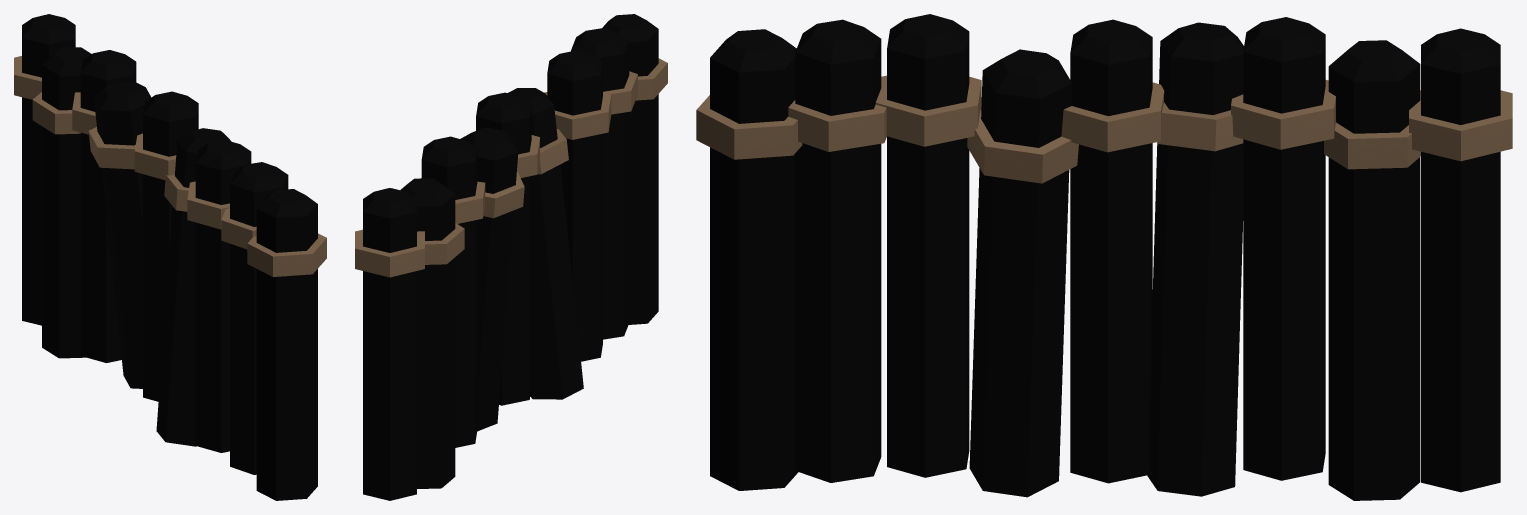
The model's file is SM_ChinampaEdge.fbx.
3 views of the same model, side by side, from view 1: azimuth 30°, elevation 25°; view 2: azimuth 150°, elevation 25°; view 3: azimuth 270°, elevation 25° (orthographic). The views are drawn at different scales.
Parts seen in each view (by area): view 1: Chinampa; view 2: Chinampa; view 3: Chinampa.
Part boxes in pixels (<box>): Chinampa: <box>14,14,326,500</box>; Chinampa: <box>355,14,667,500</box>; Chinampa: <box>696,14,1512,500</box>.
Size of the model in its own units: 48.27 by 168 by 270.
